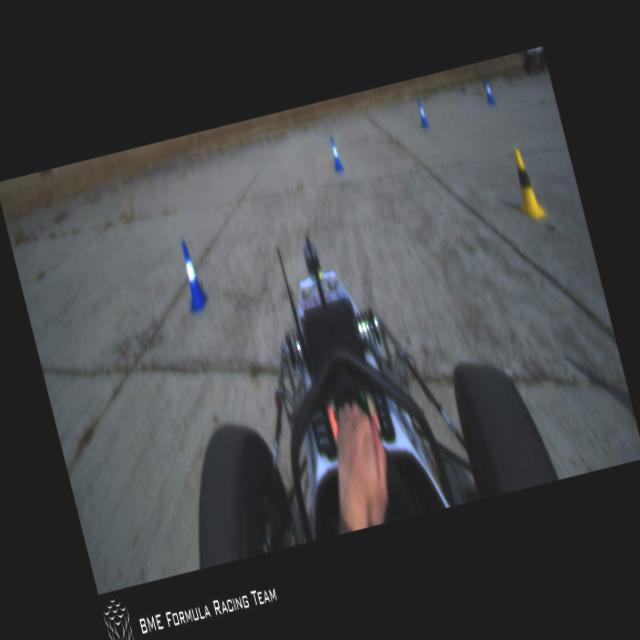blue_cone: (173, 238, 211, 313), (327, 136, 344, 173), (414, 98, 430, 130), (480, 75, 496, 107)
yellow_cone: (504, 144, 548, 222)
